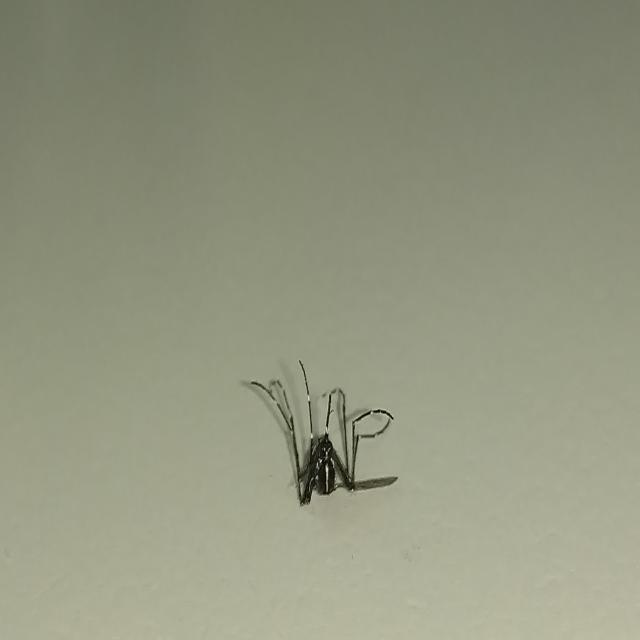albopictus: (242, 347, 396, 510)
